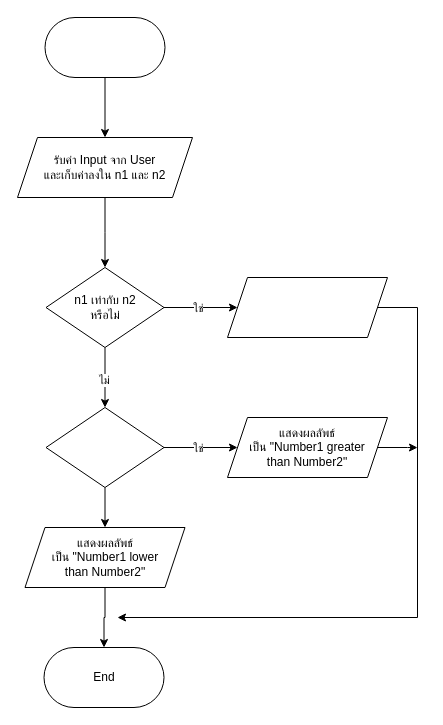
This 443x725 diagram has some shape labels left out. Here are the shapes that lost their labels. From the top down, the centre of each, then its label:
point 104,47: Start
point 307,307: แสดงผลลัพธ์ เป็น "Number1 equal Number2"
point 104,447: n1 มากกว่า n2 หรือไม่
